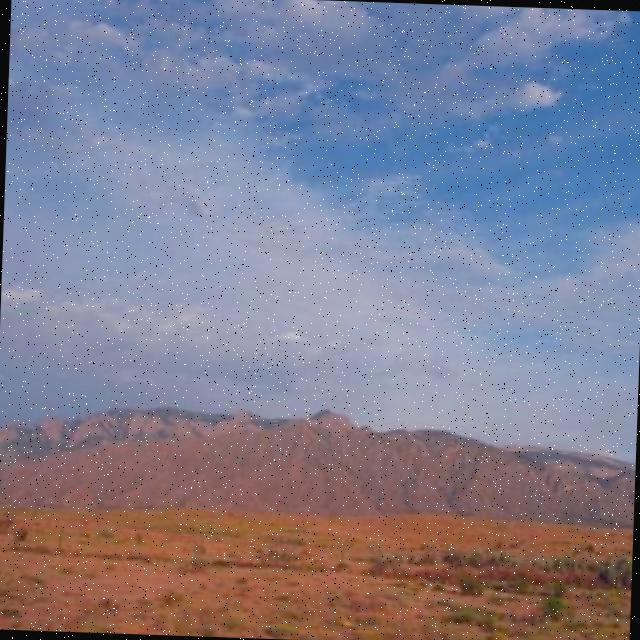Cs: (1, 1, 640, 385)
